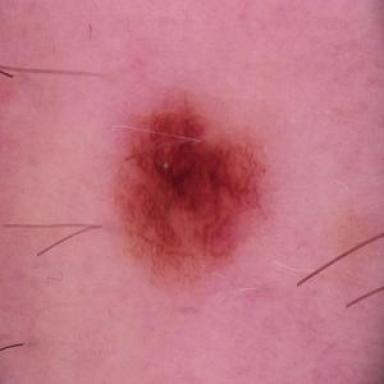Melanoma: (114, 91, 265, 276)
